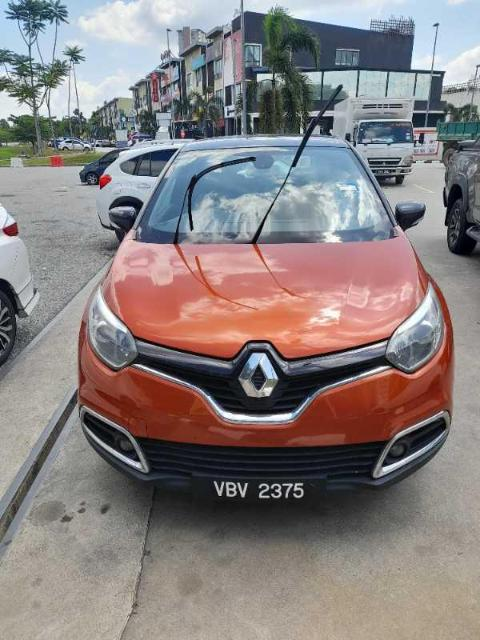License_Plate: (202, 476, 322, 506)
car: (78, 133, 457, 503)
